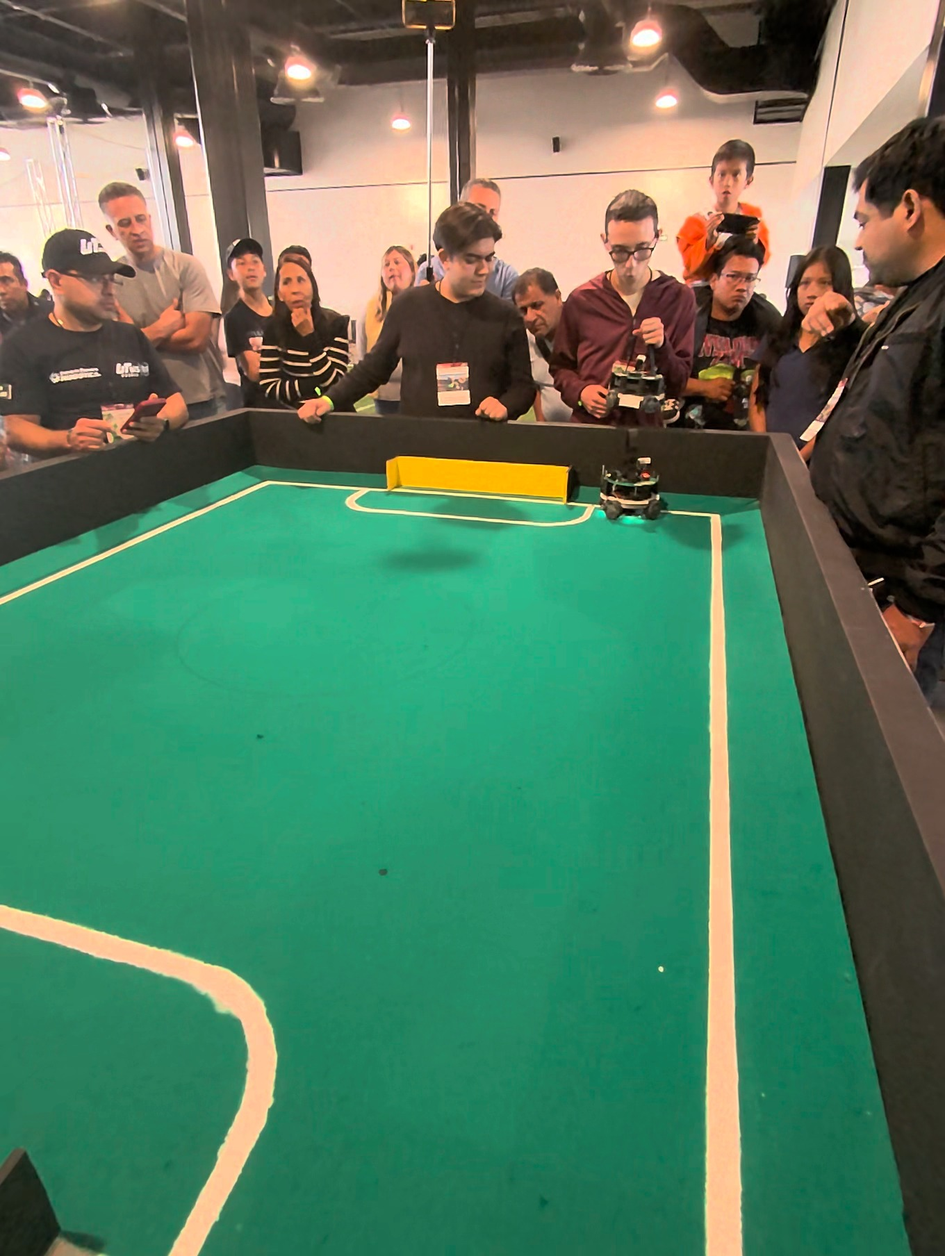Robot: (592, 439, 668, 537)
